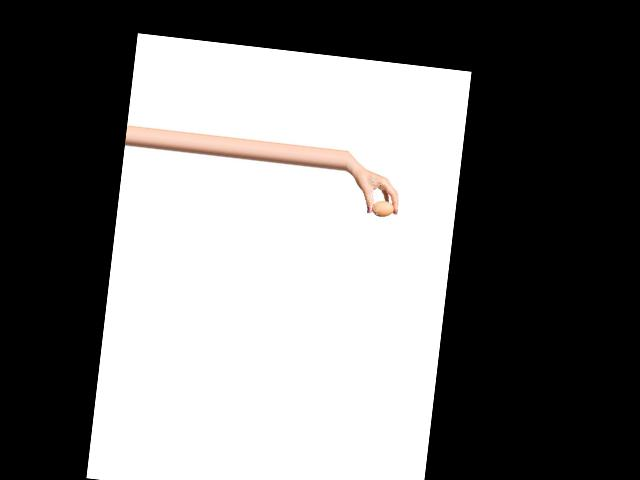egg: (371, 199, 394, 217)
